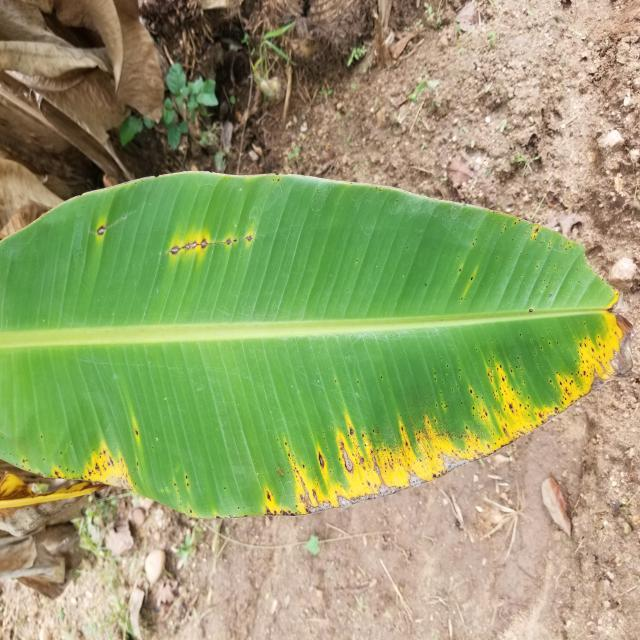Early_rust: (2, 295, 640, 547), (64, 198, 274, 273)
